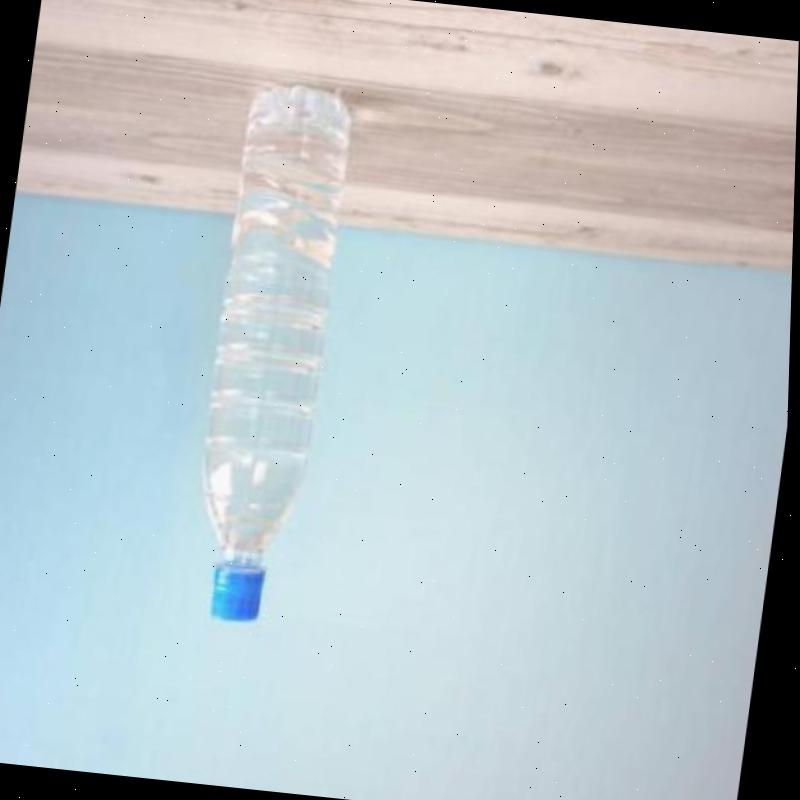botella: (180, 76, 357, 622)
